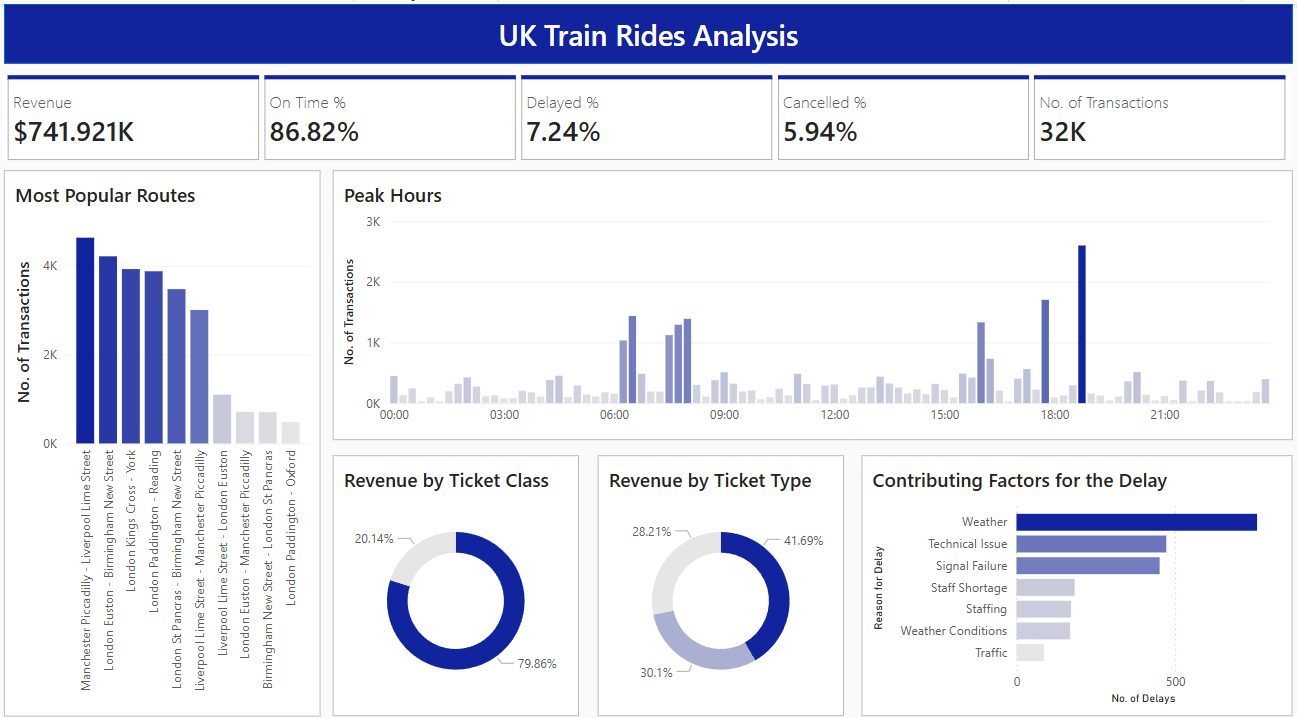

What the dashboard file says about the page in this screenshot:
{"tool":"powerbi","page":{"name":"Page 1","canvas":[1280,720],"ordinal":0},"visuals":[{"type":"shape","box":[9.8,0,1260.7,58.7],"z":0},{"type":"columnChart","title":"Most Popular Routes","fields":{"Category":["railway.Route"],"Y":["Key Measures.No. of Transactions"]},"box":[9.8,162.6,309.4,534.4],"z":1000},{"type":"columnChart","title":"Peak Hours","fields":{"Y":["Key Measures.No. of Transactions"],"Category":["railway.Departure Time"]},"box":[331.4,162.6,939.1,264.1],"z":2000},{"type":"donutChart","fields":{"Y":["Key Measures.Revenue"],"Category":["railway.Ticket Class"]},"box":[331.4,441.4,240.9,255.6],"z":2001},{"type":"donutChart","fields":{"Y":["Key Measures.Revenue"],"Category":["railway.Ticket Type"]},"box":[590.6,441.4,240.9,255.6],"z":2002},{"type":"clusteredBarChart","title":"Contributing Factors for the Delay","fields":{"Y":["Key Measures.No. of Delays"],"Category":["railway.Reason for Delay"]},"box":[848.6,441.4,421.9,255.6],"z":2003},{"type":"cardVisual","fields":{"Data":["Key Measures.Revenue","Key Measures.On Time %","Key Measures.Delayed %","Key Measures.Cancelled %","Key Measures.No. of Transactions"]},"box":[8.6,69.7,1260.7,83.2],"z":2004}]}

Visuals, with their boxes in screenshot pixels (x1, y1, x2, y2), scaled from the page's 1280x720 canvas onto the 1297x718 screenshot:
shape: BBox(10, 0, 1287, 59)
"Most Popular Routes" columnChart: BBox(10, 162, 323, 695)
"Peak Hours" columnChart: BBox(336, 162, 1287, 426)
donutChart - Key Measures.Revenue x railway.Ticket Class: BBox(336, 440, 580, 695)
donutChart - Key Measures.Revenue x railway.Ticket Type: BBox(598, 440, 843, 695)
"Contributing Factors for the Delay" clusteredBarChart: BBox(860, 440, 1287, 695)
cardVisual - Key Measures.Revenue x Key Measures.On Time %: BBox(9, 70, 1286, 152)
